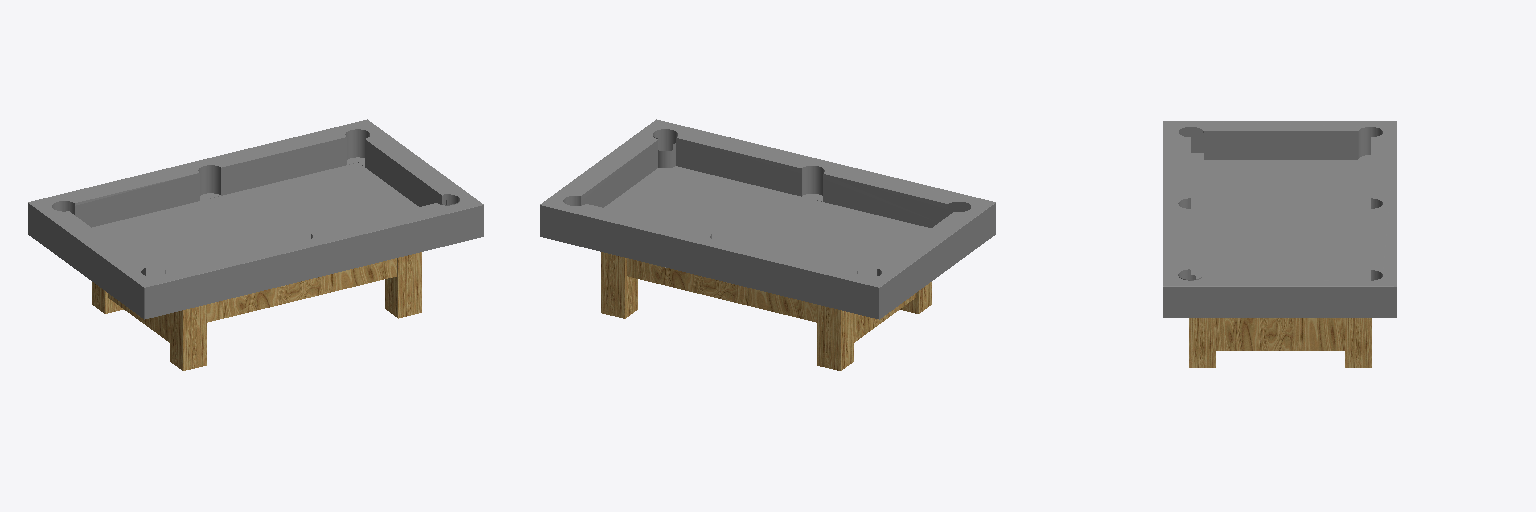
3 renders of one model, left to right at view 1: azimuth 30°, elevation 25°; view 2: azimuth 150°, elevation 25°; view 3: azimuth 270°, elevation 25°, orthographic.
Parts seen in each view (by area): view 1: Box09, Box10, Box07, Box03, Box05, Box02; view 2: Box09, Box10, Box08, Box01, Box04, Box02; view 3: Box09, Box10, Box06, Box04, Box05.
Boxes of the visible parts, box(x1,y1,x2,y2) form: Box09: box(28, 119, 483, 319); Box10: box(92, 163, 418, 276); Box07: box(207, 258, 396, 322); Box03: box(170, 305, 206, 370); Box05: box(385, 252, 421, 318); Box02: box(108, 293, 169, 342); Box09: box(540, 119, 995, 319); Box10: box(604, 166, 930, 277); Box08: box(627, 258, 816, 322); Box01: box(817, 305, 853, 370); Box04: box(601, 252, 637, 318); Box02: box(854, 293, 915, 342); Box09: box(1163, 121, 1396, 317); Box10: box(1191, 155, 1370, 280); Box06: box(1216, 318, 1344, 350); Box04: box(1345, 318, 1371, 367); Box05: box(1189, 318, 1215, 367).
Bounding box in the file's own units: 71.84 × 21.45 × 42.78.
Materials: 2 (1 with a texture image).